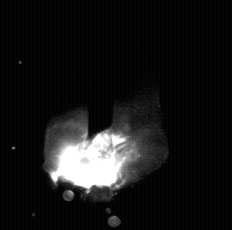arame: (88, 0, 113, 139)
poca: (43, 0, 169, 230)
